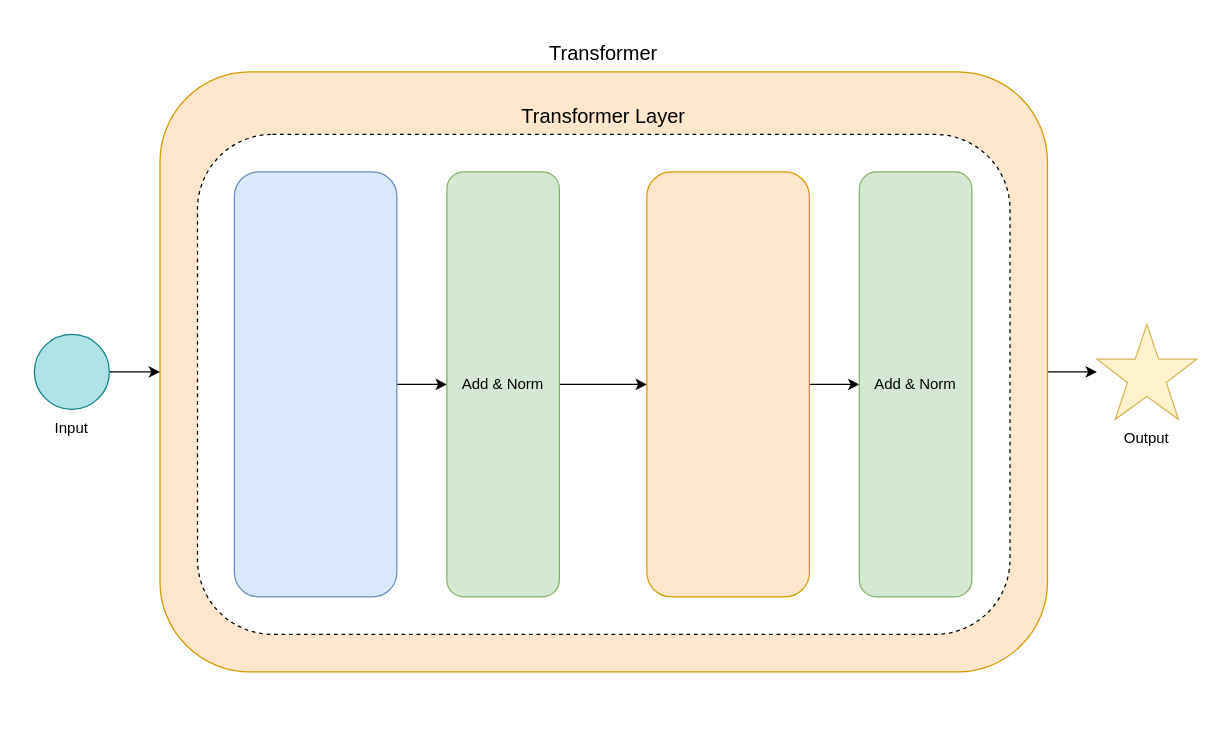
Image size: 1230x743. Some labels were removed from this diagram. The shapes that lost their labels are listed below. From the top down, each one's box as (x1, y1, x2, y2) in pixels, then its label:
(233, 171, 397, 597): Attention Mechanism
(646, 171, 809, 597): Multi Layer Perceptron
